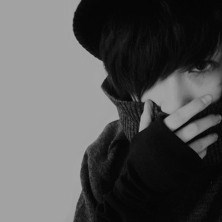face: (125, 19, 221, 157)
